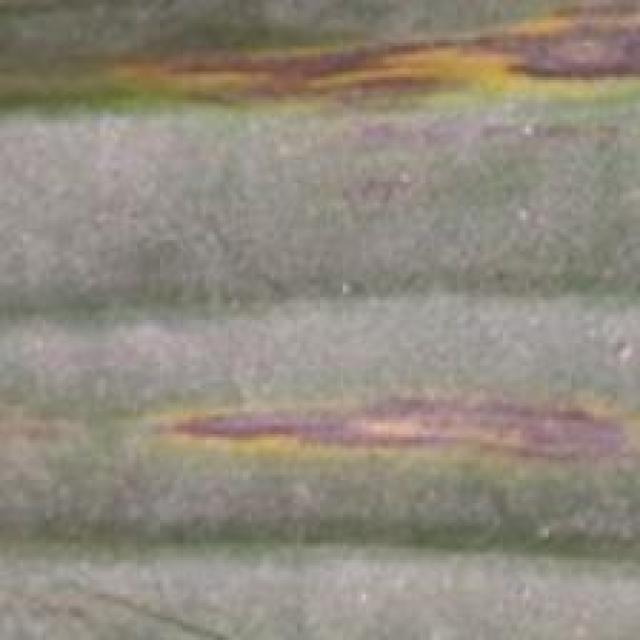Early_leaf_spot: (128, 333, 640, 515), (76, 13, 640, 165)
